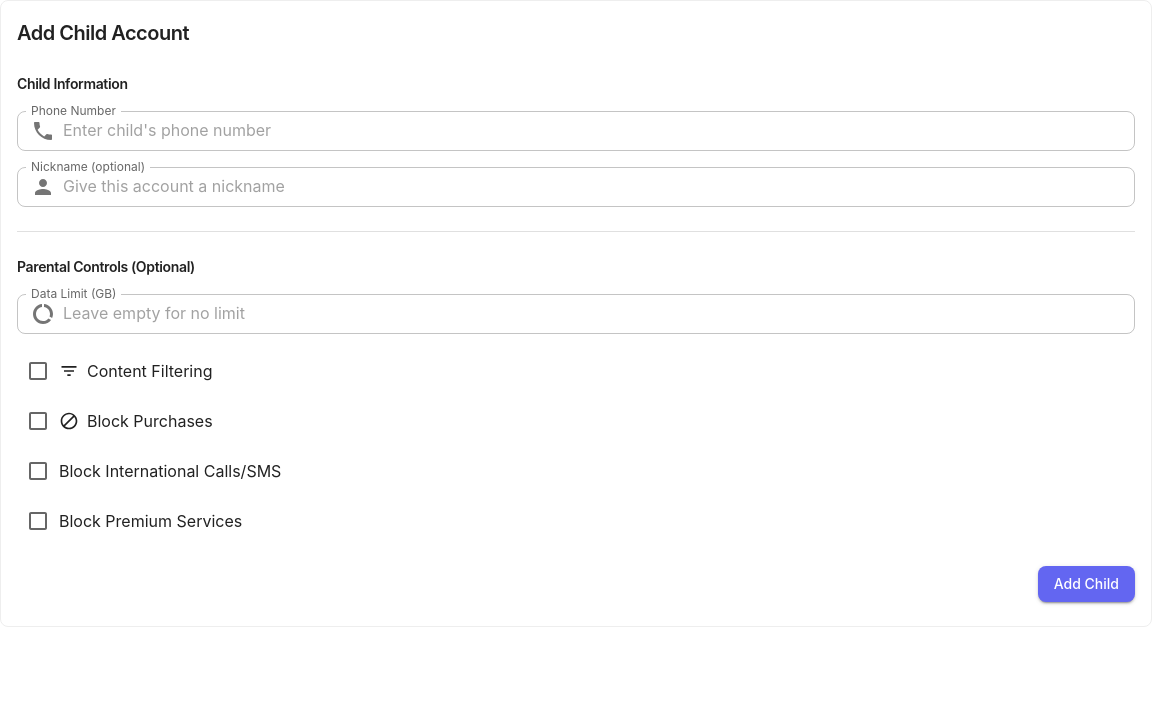
Test: AddChildForm › form validation › shows error when phone number is invalid
In the field labelled "Phone Number": (599, 131) [63,111,1135,151], type "123"
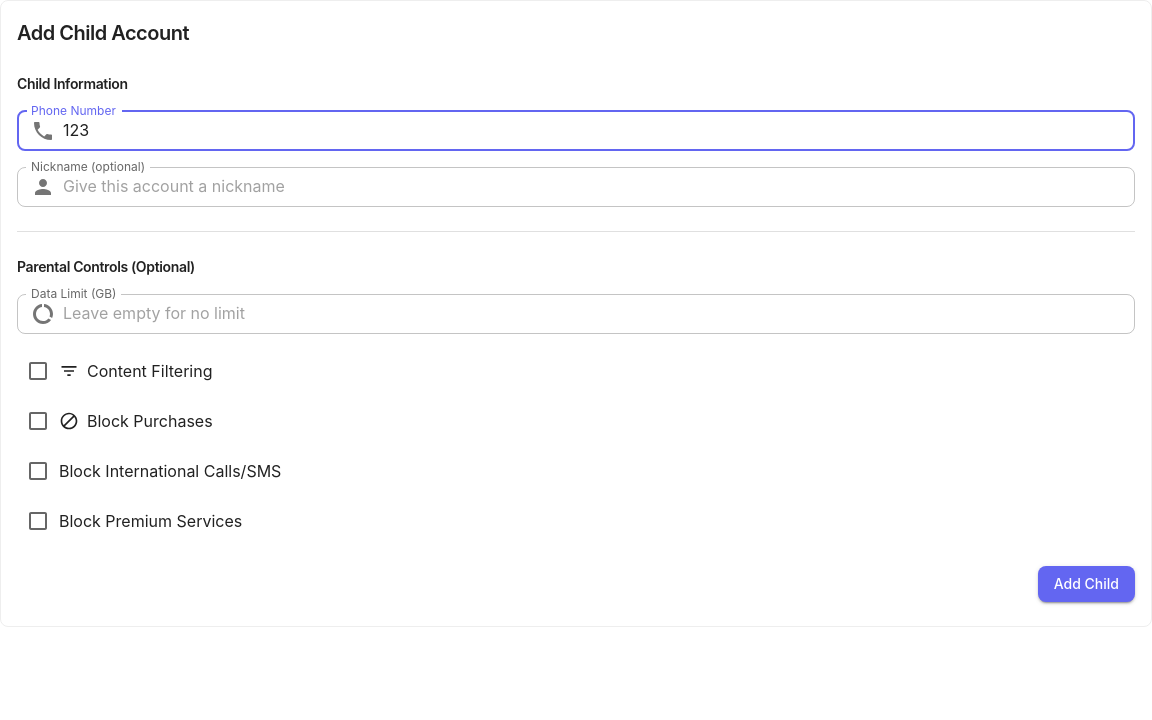
Click the button "Add Child": (1086, 584) [1038,566,1135,602]
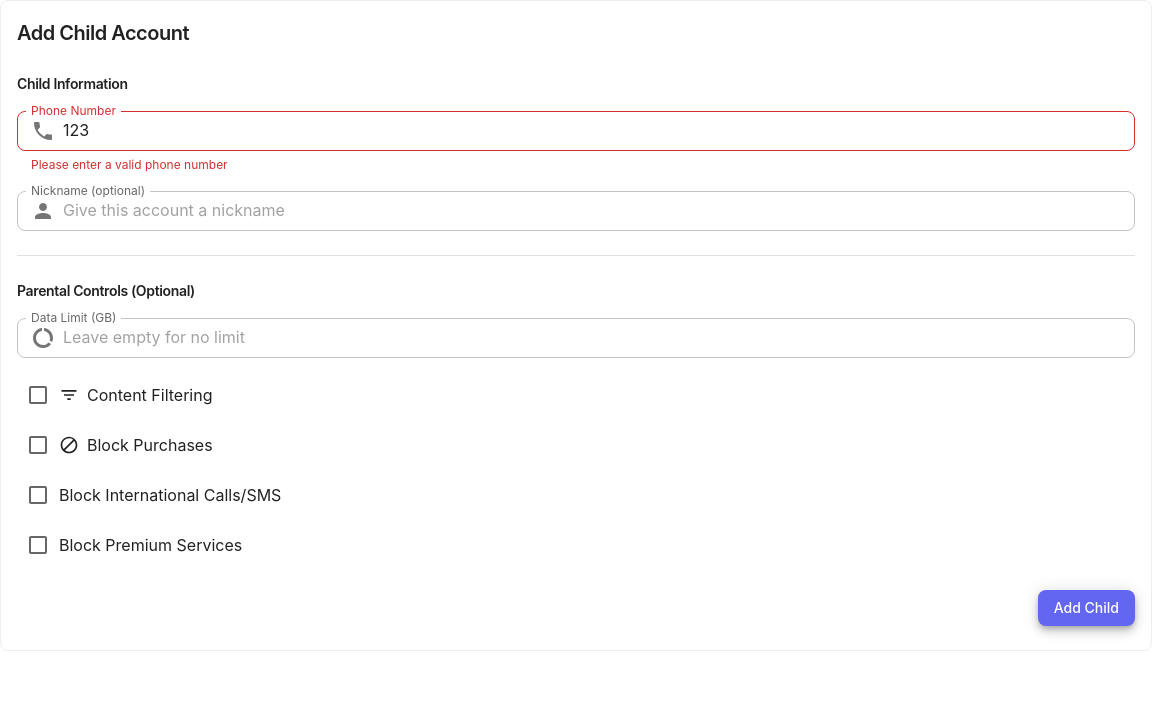
Expected: the text "Please enter a valid phone number" is shown, [31,157,228,172]
